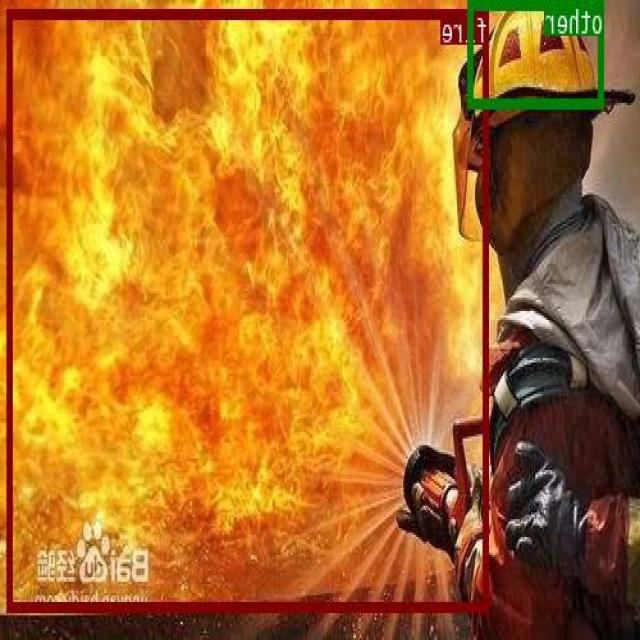fire: (9, 7, 490, 609)
other: (469, 0, 604, 105)
